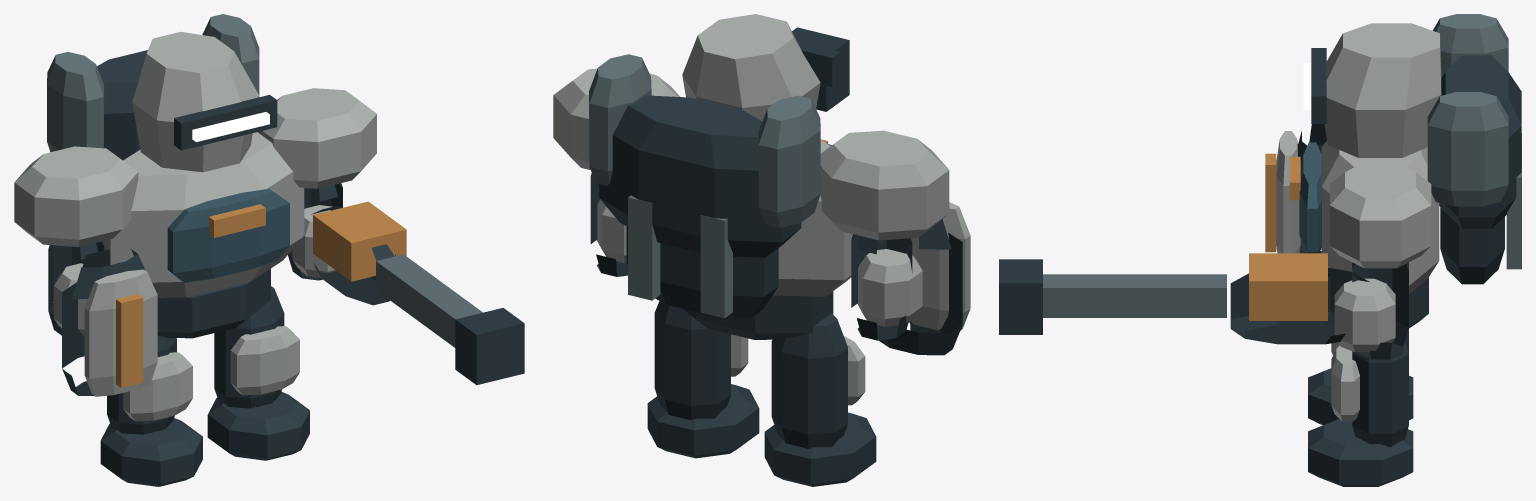
File: unit_soldier.glb
3 renders of one model, left to right at view 1: azimuth 30°, elevation 25°; view 2: azimuth 150°, elevation 25°; view 3: azimuth 270°, elevation 25°, orthographic. The views are drawn at different scales.
Parts seen in each view (by area): view 1: body, arm_r, arm_l, leg_r, leg_l, glow; view 2: body, arm_l, leg_l, leg_r, arm_r; view 3: body, arm_r, leg_r, arm_l, leg_l.
Boxes of the visible parts, x1,y1,x2,y2 form: body: (47,14,304,338); arm_r: (257,88,524,385); arm_l: (14,146,157,396); leg_r: (207,286,309,460); leg_l: (100,335,202,486); glow: (192,112,269,142); body: (589,14,852,339); arm_l: (820,130,970,355); leg_l: (764,313,876,486); leg_r: (647,301,759,458); arm_r: (553,27,849,276); body: (1289,14,1521,328); arm_r: (999,161,1431,359); leg_r: (1308,335,1413,486); arm_l: (1265,124,1326,253); leg_l: (1308,329,1413,424).
Size of the model in its own units: 0.9273 by 1.01 by 1.19.
